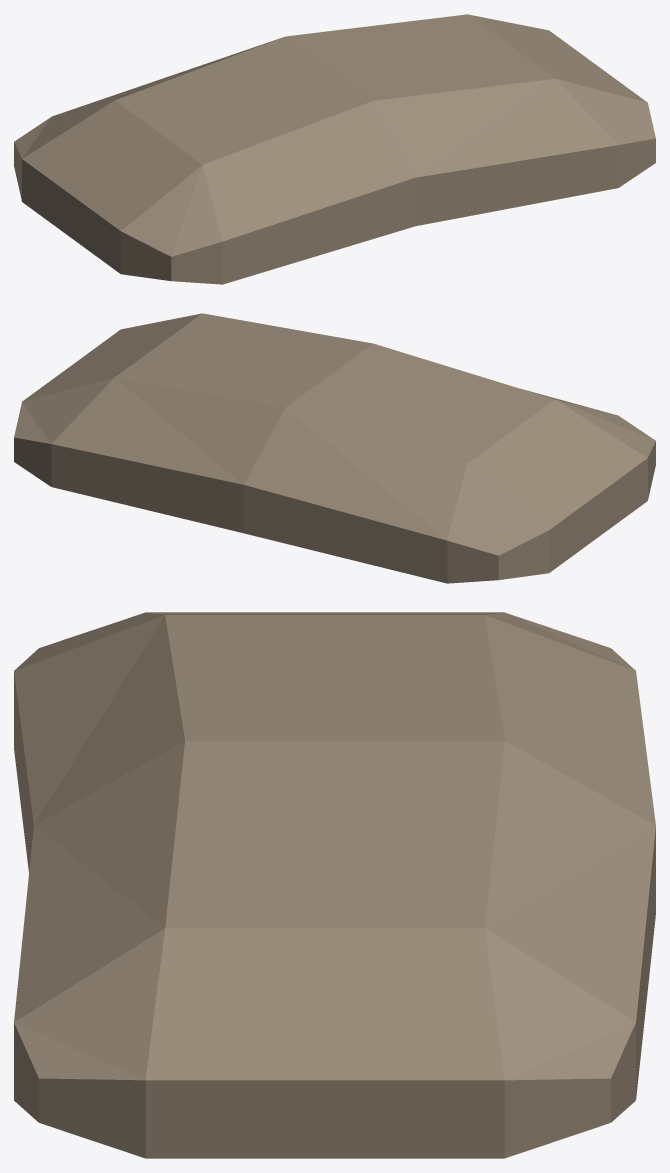
The model's file is SM_Prop_Sack_01.glb.
The picture shows the model from 3 angles, top to bottom: view 1: azimuth 30°, elevation 25°; view 2: azimuth 150°, elevation 25°; view 3: azimuth 270°, elevation 25°; orthographic projection. The views are drawn at different scales.
Visible parts, largest first — view 1: SM_Prop_Sack_01_part00; view 2: SM_Prop_Sack_01_part00; view 3: SM_Prop_Sack_01_part00.
Boxes of the visible parts, left/top/right/bottom form: SM_Prop_Sack_01_part00: left=14, top=14, right=655, bottom=284; SM_Prop_Sack_01_part00: left=14, top=313, right=655, bottom=583; SM_Prop_Sack_01_part00: left=14, top=612, right=655, bottom=1158.
Bounding box in the file's own units: 1.04 × 0.2382 × 0.6021.
Materials: 1 (1 with a texture image).
